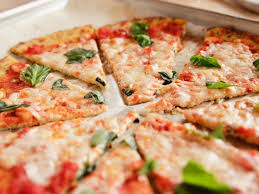pizza: (4, 23, 201, 131)
